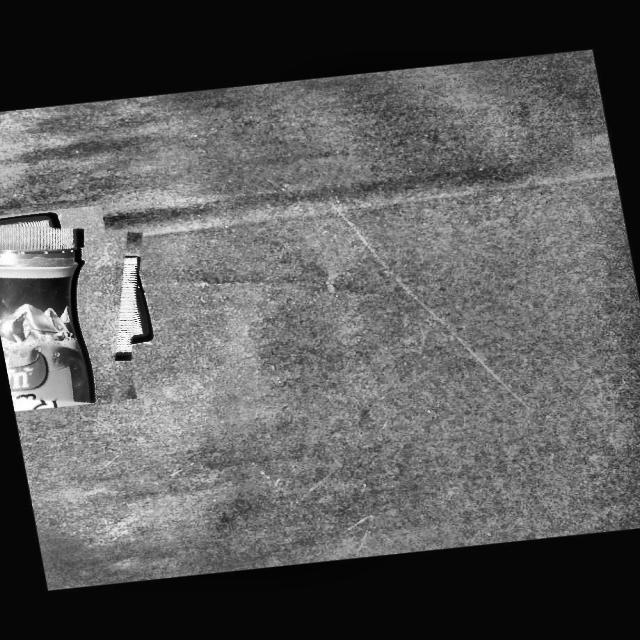Plastic-Bottle: (0, 206, 161, 408)
